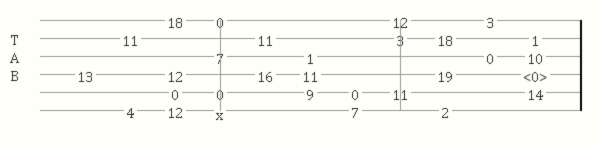0: (171, 85, 183, 99), (216, 13, 228, 27), (216, 85, 228, 99), (351, 85, 363, 99), (486, 49, 498, 63)
1: (306, 49, 318, 63), (531, 31, 543, 45)
10: (527, 49, 547, 63)
11: (122, 31, 142, 45), (257, 31, 277, 45), (302, 67, 322, 81), (392, 85, 412, 99)
12: (167, 67, 187, 81), (167, 103, 187, 117), (392, 13, 412, 27)
13: (77, 67, 97, 81)
14: (527, 85, 547, 99)
16: (257, 67, 277, 81)
18: (167, 13, 187, 27), (437, 31, 457, 45)
19: (437, 67, 457, 81)
2: (441, 103, 453, 117)
3: (396, 31, 408, 45), (486, 13, 498, 27)
4: (126, 103, 138, 117)
7: (216, 49, 228, 63), (351, 103, 363, 117)
9: (306, 85, 318, 99)
harmonic: (523, 67, 551, 81)
x: (216, 105, 227, 116)
